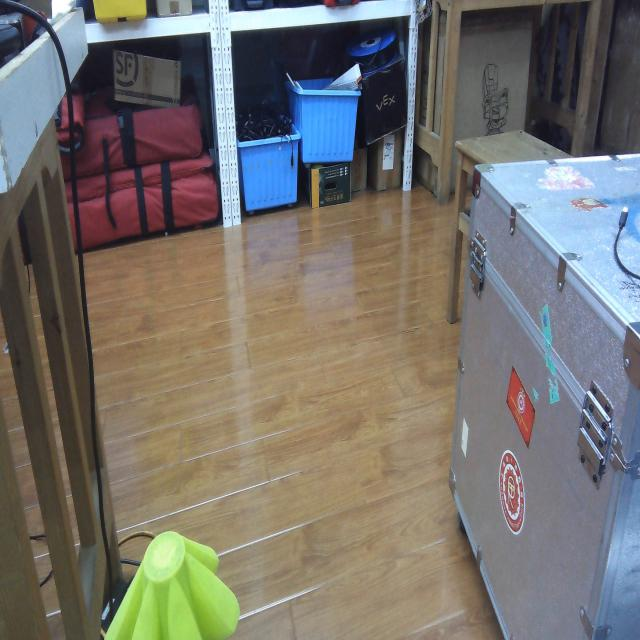Yellow-Stake-Head: (104, 530, 240, 640)
